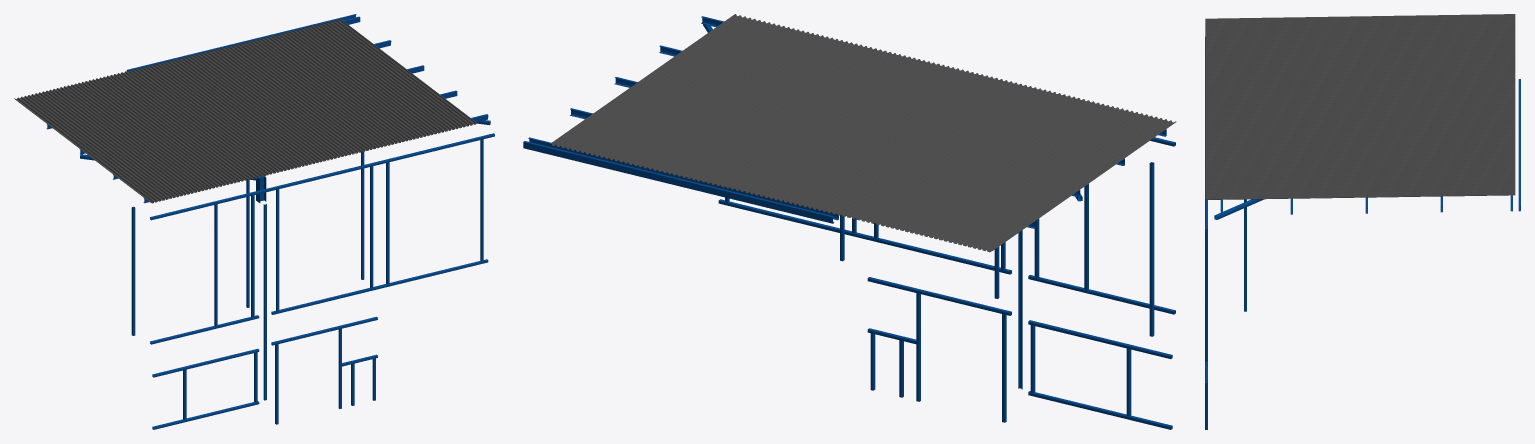
File: GCC-AAV-13220-30.nwd(33).fbx
3 renders of one model, left to right at view 1: azimuth 30°, elevation 25°; view 2: azimuth 150°, elevation 25°; view 3: azimuth 270°, elevation 25°, orthographic. The views are drawn at different scales.
Parts seen in each view (by area): view 1: PANEL 193 of SBFRAMEWORK /13220-BD-001-311-5207/CS/KM1/SH/+1, PANEL 425 of SBFRAMEWORK /13220-BD-001-311-5207/CS/KM1/SH/+1, PANEL 209 of SBFRAMEWORK /13220-BD-001-311-5207/CS/KM1/SH/+1, PANEL 233 of SBFRAMEWORK /13220-BD-001-311-5207/CS/KM1/SH/+1, PANEL 257 of SBFRAMEWORK /13220-BD-001-311-5207/CS/KM1/SH/+1, PANEL 337 of SBFRAMEWORK /13220-BD-001-311-5207/CS/KM1/SH/+1, PANEL 201 of SBFRAMEWORK /13220-BD-001-311-5207/CS/KM1/SH/+1, PANEL 281 of SBFRAMEWORK /13220-BD-001-311-5207/CS/KM1/SH/+1, PANEL 321 of SBFRAMEWORK /13220-BD-001-311-5207/CS/KM1/SH/+1, PANEL 393 of SBFRAMEWORK /13220-BD-001-311-5207/CS/KM1/SH/+1, PANEL 369 of SBFRAMEWORK /13220-BD-001-311-5207/CS/KM1/SH/+1, PANEL 401 of SBFRAMEWORK /13220-BD-001-311-5207/CS/KM1/SH/+1 (+29 smaller); view 2: PANEL 193 of SBFRAMEWORK /13220-BD-001-311-5207/CS/KM1/SH/+1, PANEL 425 of SBFRAMEWORK /13220-BD-001-311-5207/CS/KM1/SH/+1, PANEL 257 of SBFRAMEWORK /13220-BD-001-311-5207/CS/KM1/SH/+1, PANEL 313 of SBFRAMEWORK /13220-BD-001-311-5207/CS/KM1/SH/+1, PANEL 321 of SBFRAMEWORK /13220-BD-001-311-5207/CS/KM1/SH/+1, PANEL 353 of SBFRAMEWORK /13220-BD-001-311-5207/CS/KM1/SH/+1, PANEL 409 of SBFRAMEWORK /13220-BD-001-311-5207/CS/KM1/SH/+1, PANEL 201 of SBFRAMEWORK /13220-BD-001-311-5207/CS/KM1/SH/+1, PANEL 217 of SBFRAMEWORK /13220-BD-001-311-5207/CS/KM1/SH/+1, PANEL 297 of SBFRAMEWORK /13220-BD-001-311-5207/CS/KM1/SH/+1, PANEL 369 of SBFRAMEWORK /13220-BD-001-311-5207/CS/KM1/SH/+1, PANEL 289 of SBFRAMEWORK /13220-BD-001-311-5207/CS/KM1/SH/+1 (+28 smaller); view 3: PANEL 193 of SBFRAMEWORK /13220-BD-001-311-5207/CS/KM1/SH/+1, PANEL 297 of SBFRAMEWORK /13220-BD-001-311-5207/CS/KM1/SH/+1, PANEL 305 of SBFRAMEWORK /13220-BD-001-311-5207/CS/KM1/SH/+1, PANEL 281 of SBFRAMEWORK /13220-BD-001-311-5207/CS/KM1/SH/+1, PANEL 289 of SBFRAMEWORK /13220-BD-001-311-5207/CS/KM1/SH/+1, PANEL 313 of SBFRAMEWORK /13220-BD-001-311-5207/CS/KM1/SH/+1, PANEL 425 of SBFRAMEWORK /13220-BD-001-311-5207/CS/KM1/SH/+1, PANEL 273 of SBFRAMEWORK /13220-BD-001-311-5207/CS/KM1/SH/+1, PANEL 321 of SBFRAMEWORK /13220-BD-001-311-5207/CS/KM1/SH/+1, PANEL 329 of SBFRAMEWORK /13220-BD-001-311-5207/CS/KM1/SH/+1, PANEL 265 of SBFRAMEWORK /13220-BD-001-311-5207/CS/KM1/SH/+1, PANEL 337 of SBFRAMEWORK /13220-BD-001-311-5207/CS/KM1/SH/+1 (+20 smaller).
Boxes of the visible parts, x1,y1,x2,y2 form: PANEL 193 of SBFRAMEWORK /13220-BD-001-311-5207/CS/KM1/SH/+1: [326, 19, 476, 127]; PANEL 425 of SBFRAMEWORK /13220-BD-001-311-5207/CS/KM1/SH/+1: [14, 96, 164, 203]; PANEL 209 of SBFRAMEWORK /13220-BD-001-311-5207/CS/KM1/SH/+1: [304, 25, 453, 132]; PANEL 233 of SBFRAMEWORK /13220-BD-001-311-5207/CS/KM1/SH/+1: [272, 33, 422, 140]; PANEL 257 of SBFRAMEWORK /13220-BD-001-311-5207/CS/KM1/SH/+1: [240, 41, 390, 148]; PANEL 337 of SBFRAMEWORK /13220-BD-001-311-5207/CS/KM1/SH/+1: [132, 67, 282, 174]; PANEL 201 of SBFRAMEWORK /13220-BD-001-311-5207/CS/KM1/SH/+1: [315, 22, 464, 129]; PANEL 281 of SBFRAMEWORK /13220-BD-001-311-5207/CS/KM1/SH/+1: [208, 48, 357, 156]; PANEL 321 of SBFRAMEWORK /13220-BD-001-311-5207/CS/KM1/SH/+1: [154, 62, 303, 169]; PANEL 393 of SBFRAMEWORK /13220-BD-001-311-5207/CS/KM1/SH/+1: [57, 85, 206, 192]; PANEL 369 of SBFRAMEWORK /13220-BD-001-311-5207/CS/KM1/SH/+1: [89, 78, 239, 184]; PANEL 401 of SBFRAMEWORK /13220-BD-001-311-5207/CS/KM1/SH/+1: [47, 88, 196, 195]; PANEL 193 of SBFRAMEWORK /13220-BD-001-311-5207/CS/KM1/SH/+1: [551, 14, 754, 149]; PANEL 425 of SBFRAMEWORK /13220-BD-001-311-5207/CS/KM1/SH/+1: [973, 118, 1176, 252]; PANEL 257 of SBFRAMEWORK /13220-BD-001-311-5207/CS/KM1/SH/+1: [668, 44, 871, 177]; PANEL 313 of SBFRAMEWORK /13220-BD-001-311-5207/CS/KM1/SH/+1: [768, 68, 972, 202]; PANEL 321 of SBFRAMEWORK /13220-BD-001-311-5207/CS/KM1/SH/+1: [784, 72, 987, 206]; PANEL 353 of SBFRAMEWORK /13220-BD-001-311-5207/CS/KM1/SH/+1: [842, 86, 1045, 220]; PANEL 409 of SBFRAMEWORK /13220-BD-001-311-5207/CS/KM1/SH/+1: [944, 111, 1146, 245]; PANEL 201 of SBFRAMEWORK /13220-BD-001-311-5207/CS/KM1/SH/+1: [567, 19, 769, 152]; PANEL 217 of SBFRAMEWORK /13220-BD-001-311-5207/CS/KM1/SH/+1: [596, 26, 798, 160]; PANEL 297 of SBFRAMEWORK /13220-BD-001-311-5207/CS/KM1/SH/+1: [741, 61, 943, 195]; PANEL 369 of SBFRAMEWORK /13220-BD-001-311-5207/CS/KM1/SH/+1: [872, 93, 1074, 227]; PANEL 289 of SBFRAMEWORK /13220-BD-001-311-5207/CS/KM1/SH/+1: [727, 58, 929, 191]; PANEL 193 of SBFRAMEWORK /13220-BD-001-311-5207/CS/KM1/SH/+1: [1205, 186, 1515, 199]; PANEL 297 of SBFRAMEWORK /13220-BD-001-311-5207/CS/KM1/SH/+1: [1205, 109, 1515, 122]; PANEL 305 of SBFRAMEWORK /13220-BD-001-311-5207/CS/KM1/SH/+1: [1205, 103, 1515, 116]; PANEL 281 of SBFRAMEWORK /13220-BD-001-311-5207/CS/KM1/SH/+1: [1205, 121, 1515, 134]; PANEL 289 of SBFRAMEWORK /13220-BD-001-311-5207/CS/KM1/SH/+1: [1205, 115, 1515, 128]; PANEL 313 of SBFRAMEWORK /13220-BD-001-311-5207/CS/KM1/SH/+1: [1205, 97, 1515, 110]; PANEL 425 of SBFRAMEWORK /13220-BD-001-311-5207/CS/KM1/SH/+1: [1205, 14, 1515, 27]; PANEL 273 of SBFRAMEWORK /13220-BD-001-311-5207/CS/KM1/SH/+1: [1205, 127, 1515, 140]; PANEL 321 of SBFRAMEWORK /13220-BD-001-311-5207/CS/KM1/SH/+1: [1205, 91, 1515, 104]; PANEL 329 of SBFRAMEWORK /13220-BD-001-311-5207/CS/KM1/SH/+1: [1205, 85, 1515, 98]; PANEL 265 of SBFRAMEWORK /13220-BD-001-311-5207/CS/KM1/SH/+1: [1205, 133, 1515, 145]; PANEL 337 of SBFRAMEWORK /13220-BD-001-311-5207/CS/KM1/SH/+1: [1205, 79, 1515, 92].
Bounding box in the file's own units: 713 × 506 × 497.
